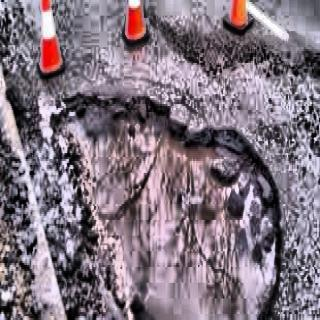pothole: (36, 90, 281, 320)
